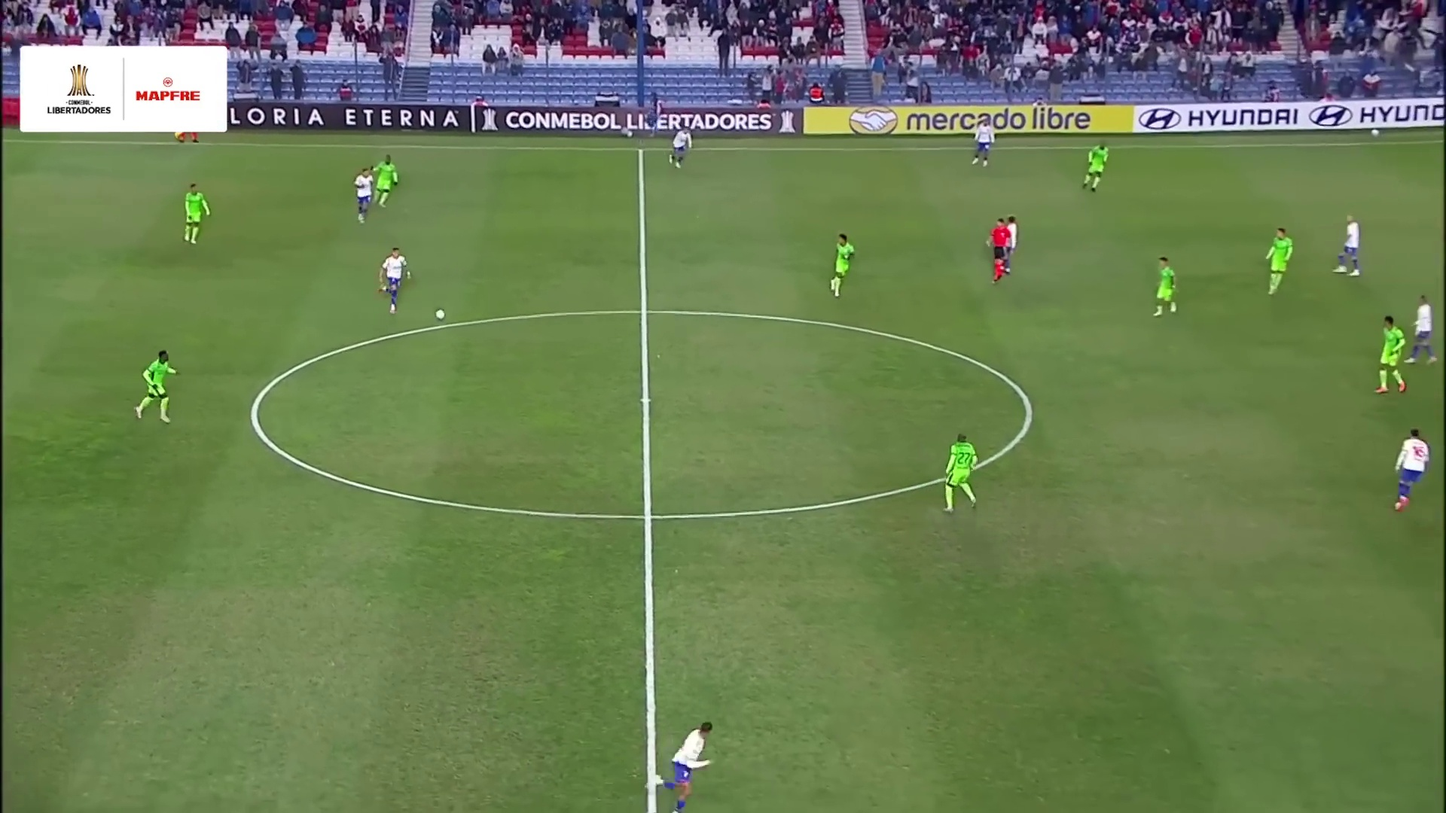ball: (434, 308, 449, 322)
player: (639, 721, 717, 813), (130, 348, 180, 425), (1389, 427, 1433, 514), (939, 431, 983, 514), (1373, 314, 1410, 396), (1405, 293, 1440, 368), (375, 246, 413, 314), (1262, 228, 1296, 296), (1331, 214, 1365, 278), (825, 232, 857, 299), (179, 183, 213, 246), (1150, 256, 1181, 319), (1079, 143, 1111, 194), (371, 155, 401, 208), (350, 166, 375, 225), (969, 119, 998, 169), (667, 124, 695, 171), (1004, 216, 1023, 270)
referee: (982, 217, 1013, 286)
